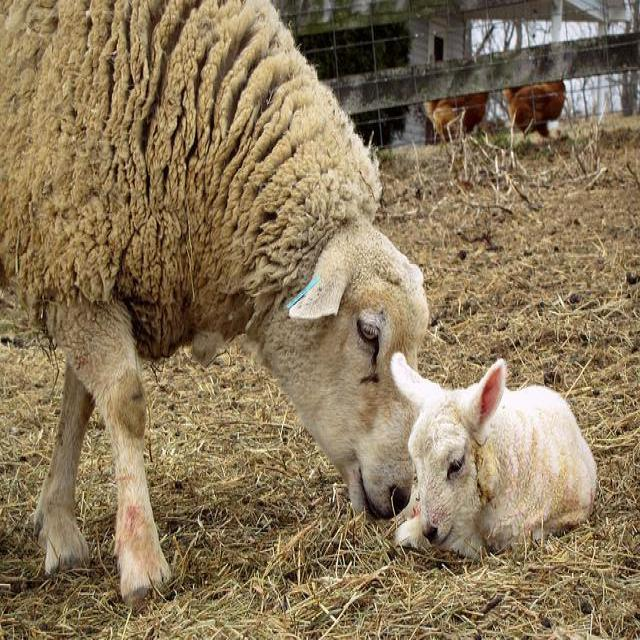Sheep: (2, 4, 426, 558), (392, 356, 599, 560)
